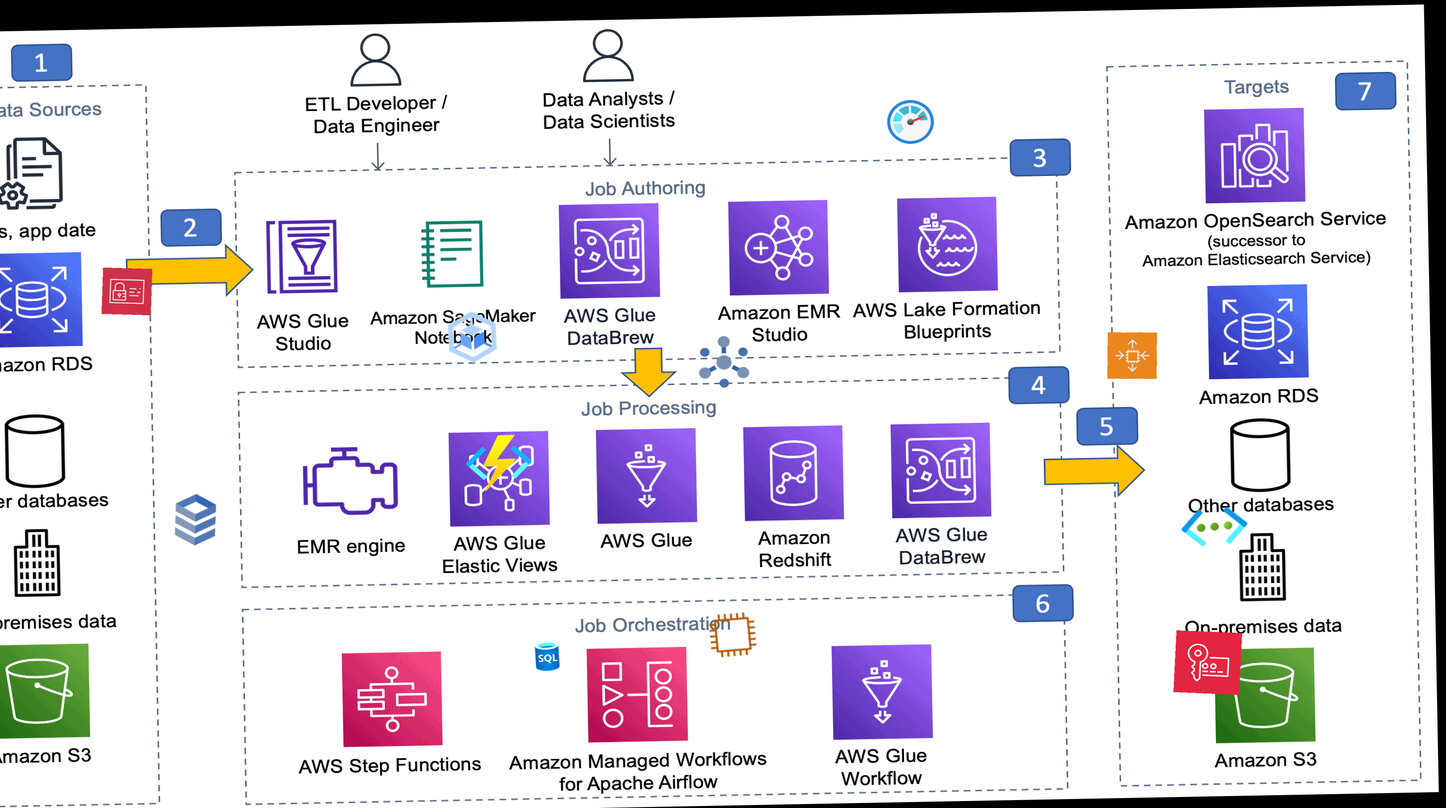aws_amazon_ec2_auto_scaling: (1106, 331, 1158, 380)
aws_ec2_instance: (705, 609, 760, 660)
aws_identity_and_access_management: (100, 266, 153, 316)
aws_key_management_service: (1172, 629, 1243, 696)
azure_function_apps: (464, 430, 533, 495)
azure_monitor: (884, 97, 936, 146)
azure_sql_database: (529, 639, 565, 673)
azure_virtual_networks: (1178, 492, 1250, 560)
gcp_cloud_sql: (160, 486, 230, 553)
gcp_google_kubernetes_engine: (438, 304, 507, 369)
gcp_pubsub: (690, 330, 758, 394)
